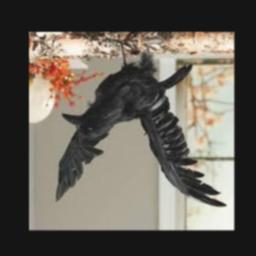Crow: (53, 43, 228, 209)
